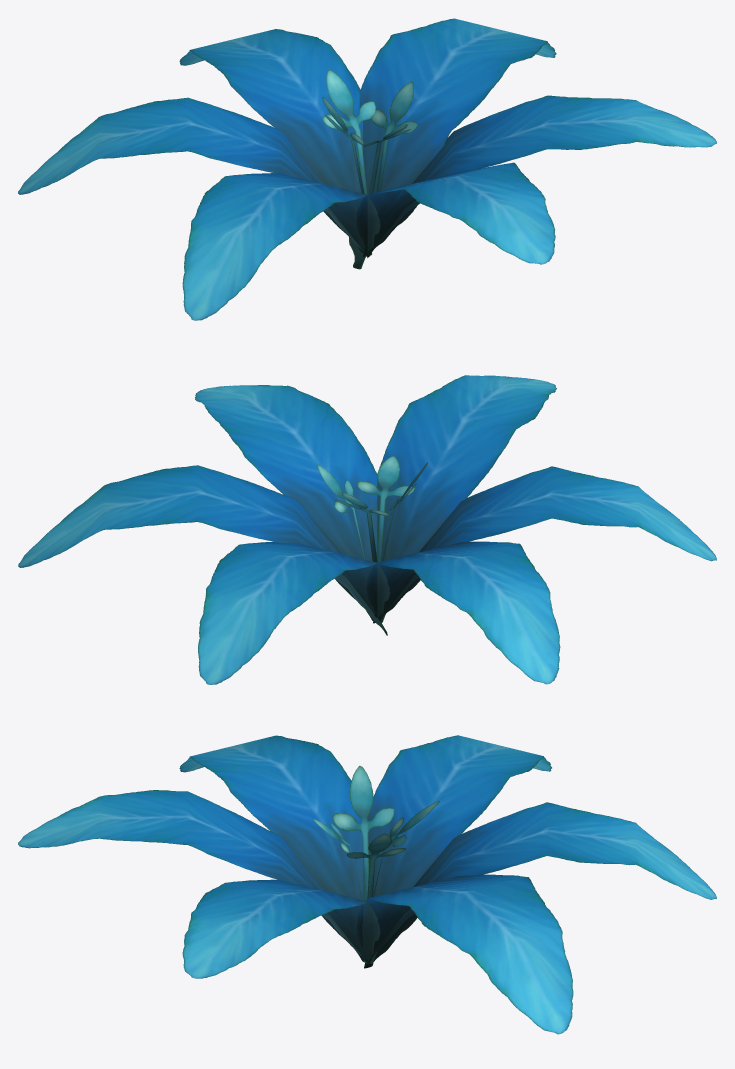
Rendered from sl_lanhua.FBX.
3 renders of one model, top to bottom at view 1: azimuth 30°, elevation 25°; view 2: azimuth 150°, elevation 25°; view 3: azimuth 270°, elevation 25°, orthographic. The views are drawn at different scales.
Visible parts, largest first — view 1: sl_lanhua; view 2: sl_lanhua; view 3: sl_lanhua.
Part boxes in pixels (x1,y1,x2,y2): sl_lanhua: [18, 18, 716, 320]; sl_lanhua: [18, 375, 716, 684]; sl_lanhua: [18, 735, 716, 1034].
Size of the model in its own units: 257 by 76.19 by 260.
